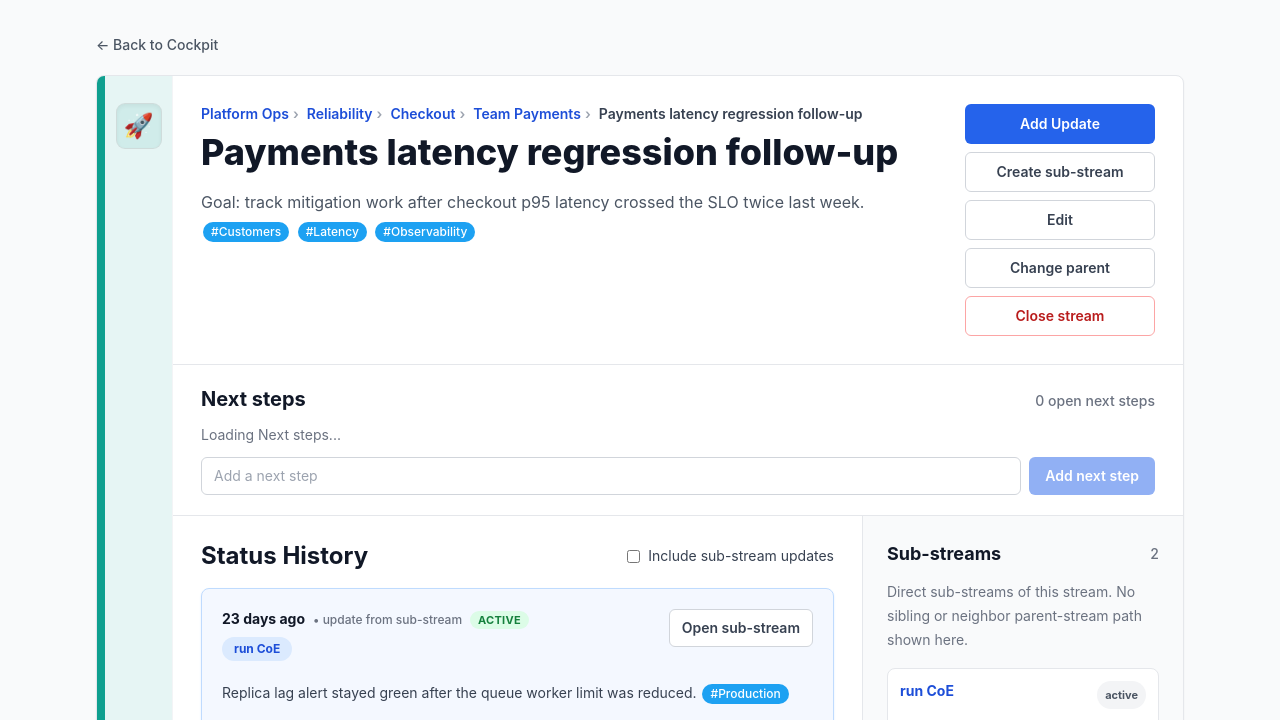
WorkstreamDetail reference redesign › shows an edited context immediately from the save response while the detail refetch is still pending
Expected: the text "Goal: track mitigation work" is shown, x1=201 y1=192 x2=864 y2=212
Click the button "Edit" at [1060, 220], box x1=965 y1=200 x2=1155 y2=240
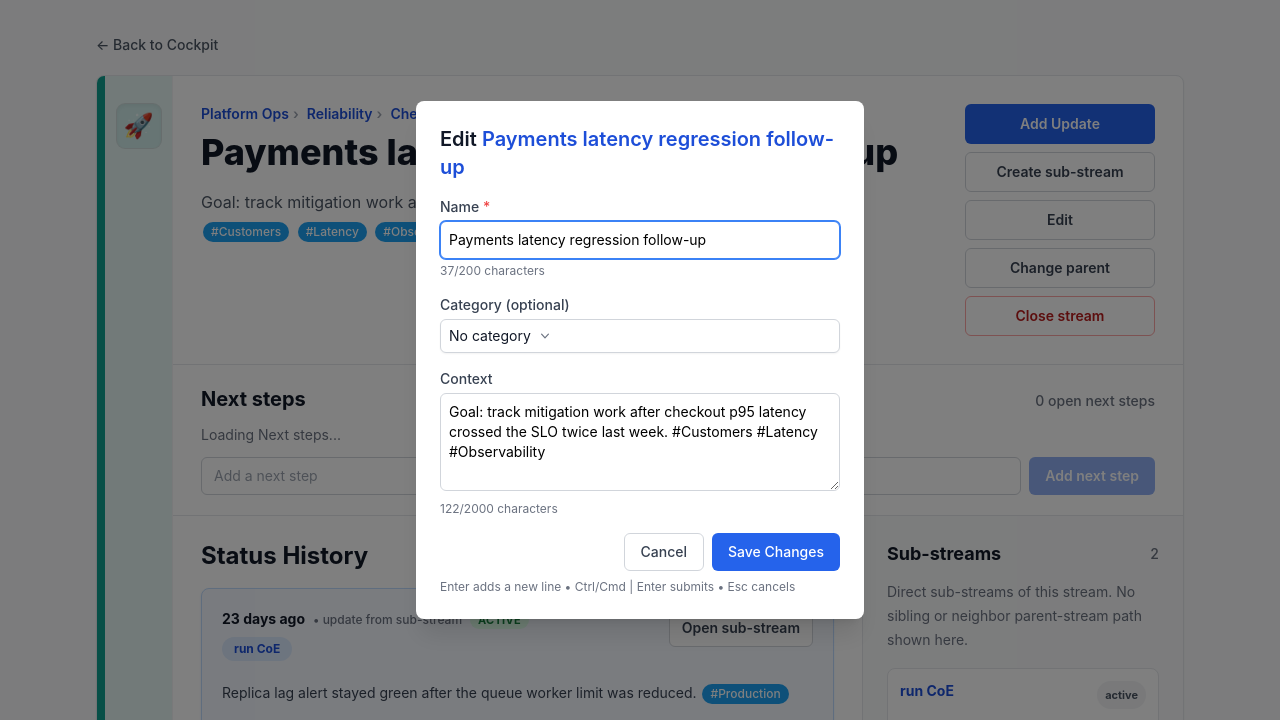
Replace the text in the text box labelled "Context" with "Updated mitigation plan is visible immediately after save. #FreshContext" at [640, 442], box x1=440 y1=393 x2=840 y2=491
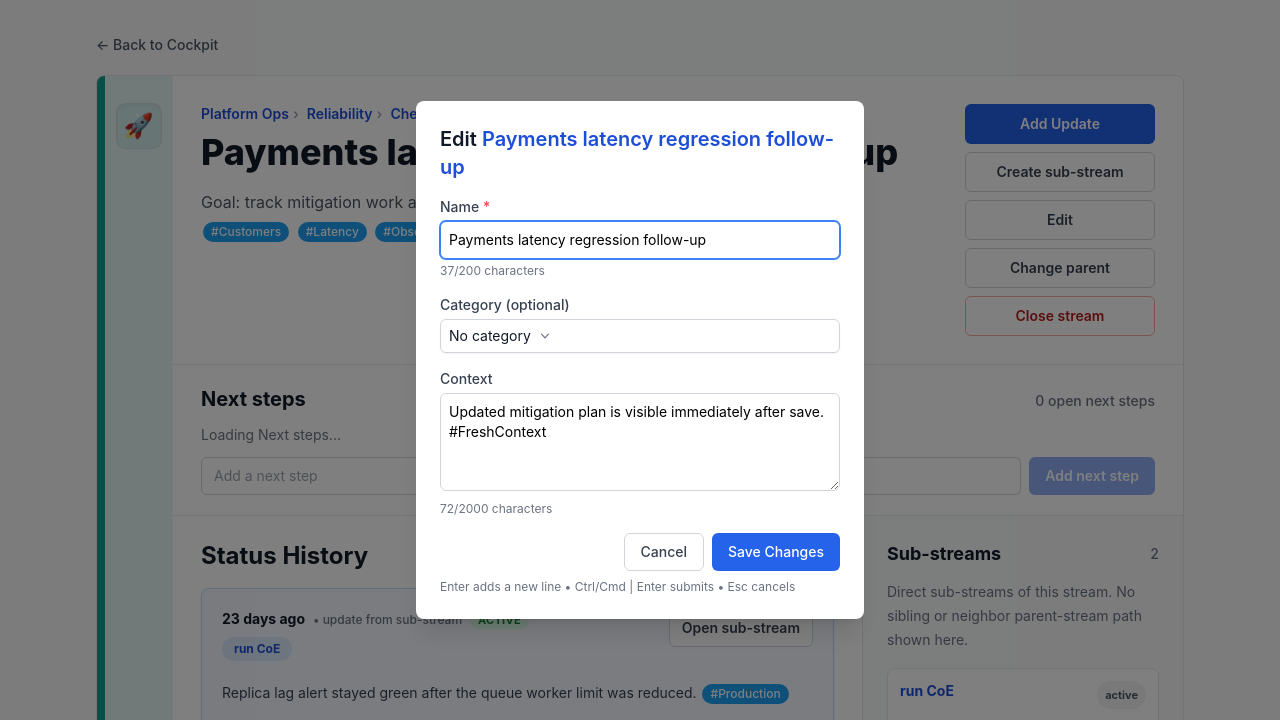
Click the button "Save Changes" at [776, 552], box x1=712 y1=533 x2=840 y2=571
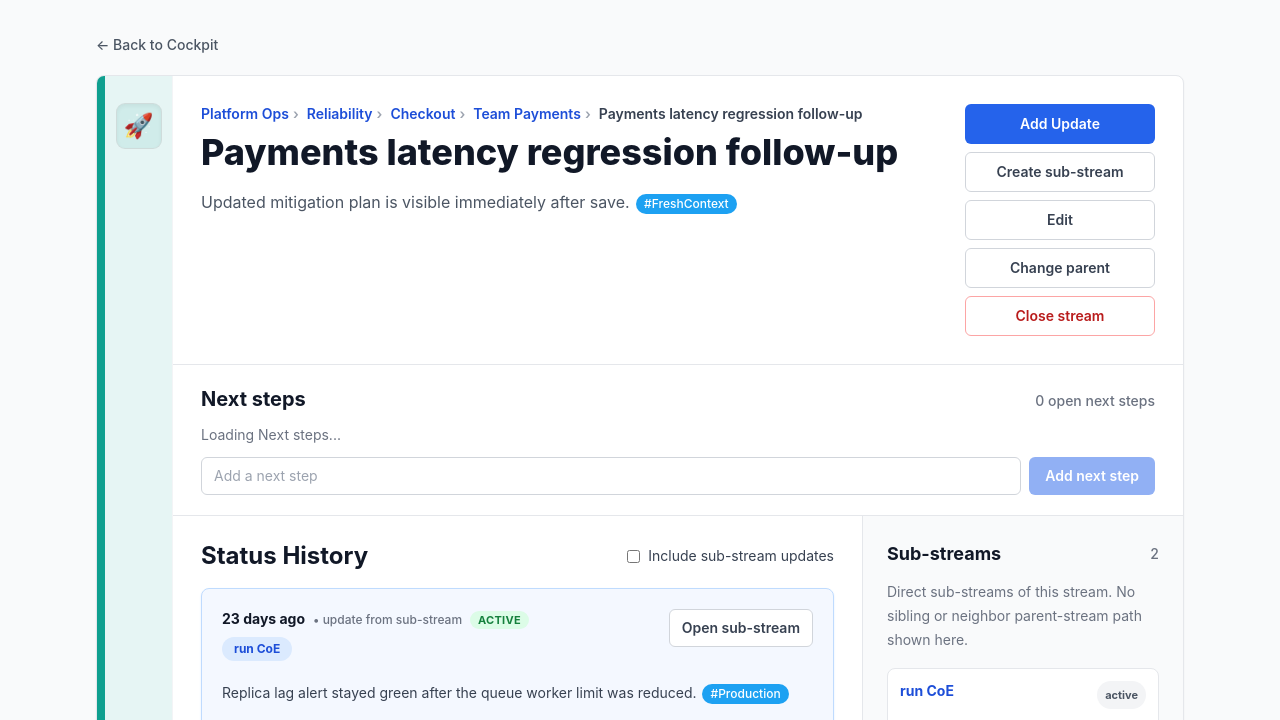
Result: the button "Save Changes" is gone
Result: the text "Updated mitigation plan is visible immediately" shows "#FreshContext" at x1=201 y1=192 x2=737 y2=214
Result: the text "Goal: track mitigation work" is gone
